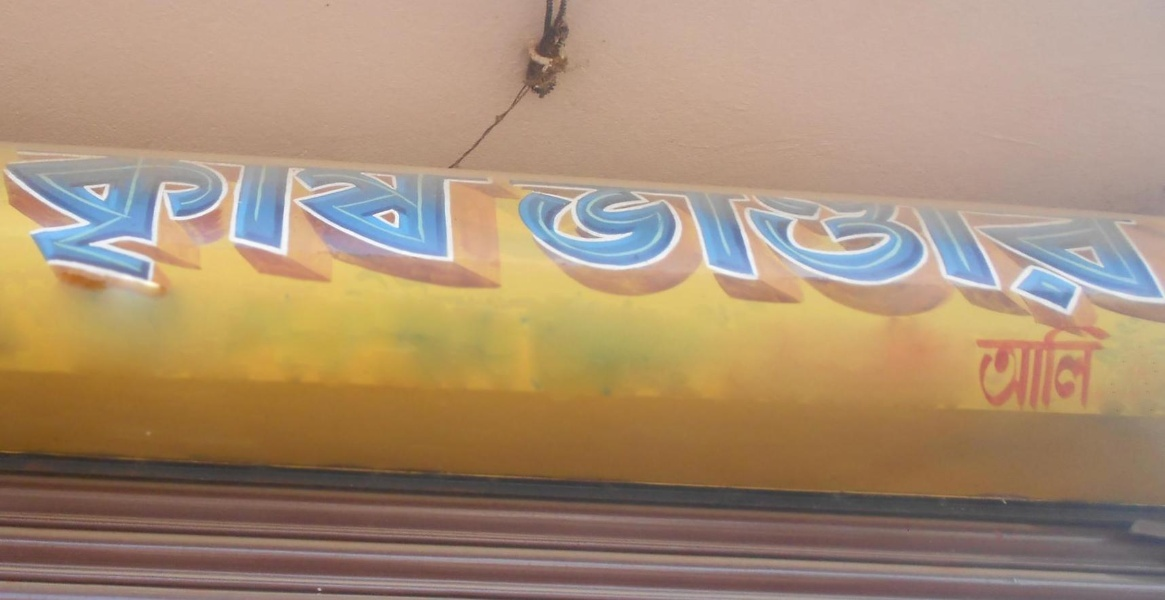text: (513, 171, 528, 329), (529, 171, 544, 329), (545, 171, 560, 329), (561, 171, 576, 329), (577, 171, 592, 329), (593, 171, 608, 329), (609, 171, 624, 329), (625, 171, 640, 329), (641, 171, 656, 329), (657, 171, 672, 329), (673, 171, 688, 329), (689, 171, 704, 329), (705, 171, 720, 329), (721, 171, 736, 329), (737, 171, 752, 329), (753, 171, 768, 329), (769, 171, 784, 329), (785, 171, 800, 329), (801, 171, 816, 329), (817, 171, 832, 329), (833, 171, 848, 329), (849, 171, 864, 329), (865, 171, 880, 329), (881, 171, 896, 329), (897, 171, 912, 329), (913, 171, 928, 329), (929, 171, 944, 329), (945, 171, 960, 329), (961, 171, 976, 329), (977, 171, 992, 329), (993, 171, 1008, 329), (1009, 171, 1024, 329), (1025, 171, 1040, 329), (1041, 171, 1056, 329), (1057, 171, 1072, 329), (1073, 171, 1088, 329), (1089, 171, 1104, 329), (1105, 171, 1120, 329), (1121, 171, 1136, 329), (1137, 171, 1152, 329), (17, 137, 32, 291), (33, 137, 48, 291), (49, 137, 64, 291), (65, 137, 80, 291), (81, 137, 96, 291), (97, 137, 112, 291), (113, 137, 128, 291), (129, 137, 144, 291), (145, 137, 160, 291), (161, 137, 176, 291), (177, 137, 192, 291), (193, 137, 208, 291), (209, 137, 224, 291), (225, 137, 240, 291), (241, 137, 256, 291), (257, 137, 272, 291), (273, 137, 288, 291), (289, 137, 304, 291), (305, 137, 320, 291), (321, 137, 336, 291), (337, 137, 352, 291), (353, 137, 368, 291), (369, 137, 384, 291), (385, 137, 400, 291), (401, 137, 416, 291), (417, 137, 432, 291), (433, 137, 448, 291), (449, 137, 464, 291), (465, 137, 480, 291), (481, 137, 496, 291), (2, 137, 16, 291), (497, 137, 509, 291), (1153, 171, 1163, 329), (977, 323, 992, 410), (993, 323, 1008, 410), (1009, 323, 1024, 410), (1025, 323, 1040, 410), (1041, 323, 1056, 410), (1057, 323, 1072, 410), (1073, 323, 1088, 410), (1089, 323, 1104, 410), (507, 171, 512, 329), (1105, 323, 1111, 410), (974, 323, 976, 410)
